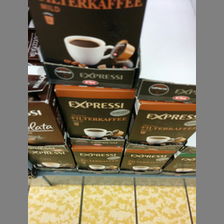coffee: (27, 1, 147, 67), (53, 84, 135, 142), (126, 99, 195, 146)
